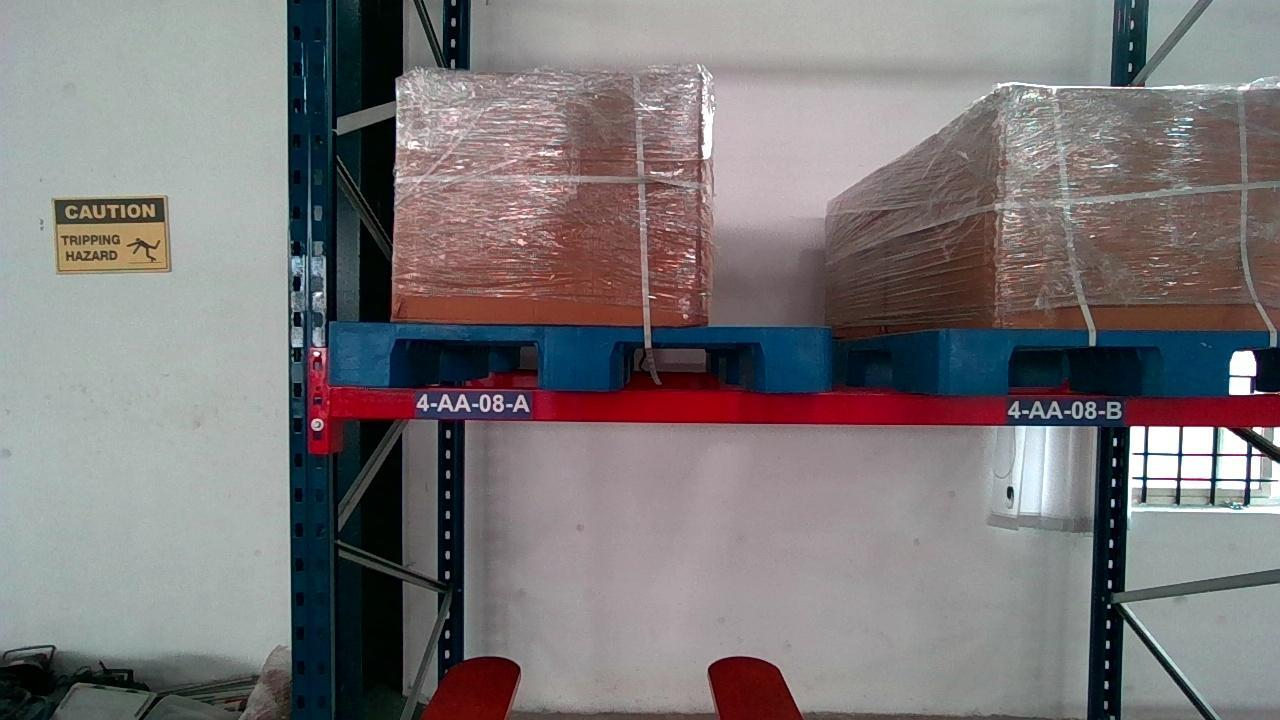h_rack: (315, 384, 1280, 424)
small_pallet: (326, 323, 829, 383), (937, 329, 1280, 394)
